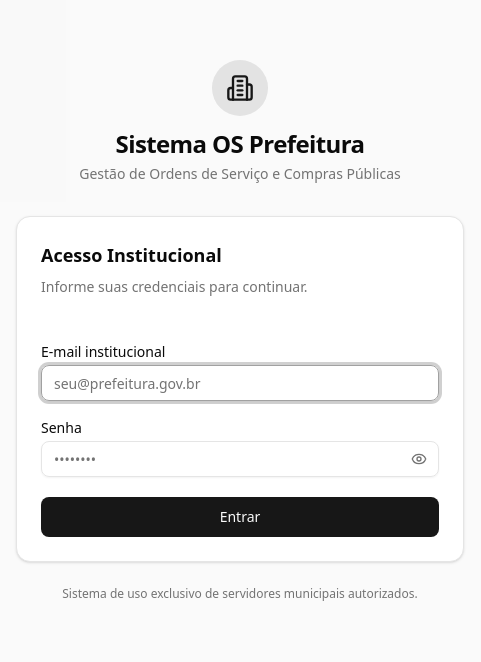
it: LoginPage — US-001 › Erros retornados pela API › exibe alerta "Falha no acesso" para credenciais inválidas (401)
Type "servidor@prefeitura.gov.br" into the field labelled "E-mail institucional" at [240, 383], box [41,365,439,401]
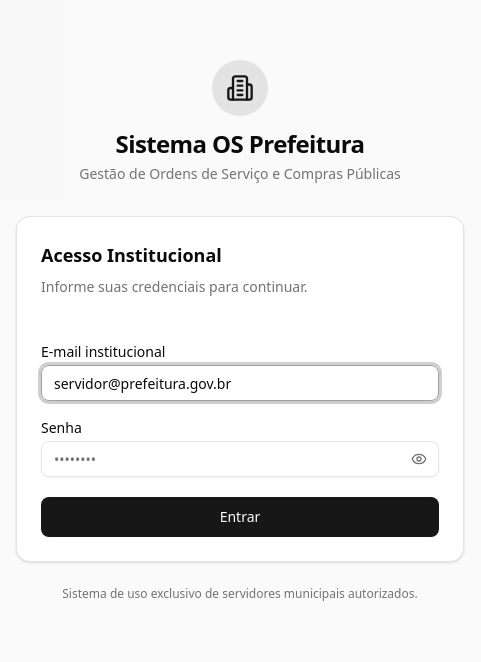
Type "Senha123" into the password field labelled "Senha" at [240, 459], box [41,441,439,477]
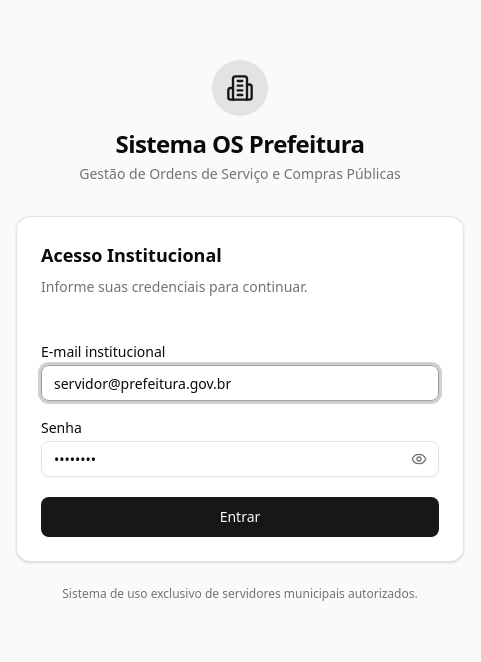
Click the button "Entrar" at [240, 517], box [41,497,439,537]
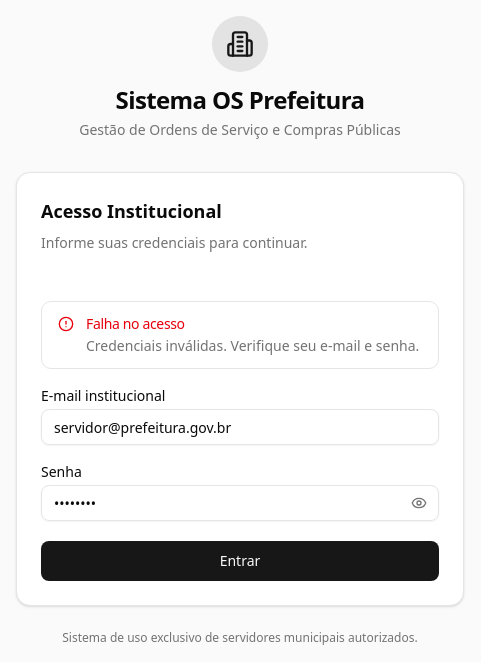
Now the heading "Falha no acesso" is shown, box [86,314,185,333]
Now the text "Credenciais inválidas. Verifique seu e-mail e senha." is shown, box [86,336,422,356]
